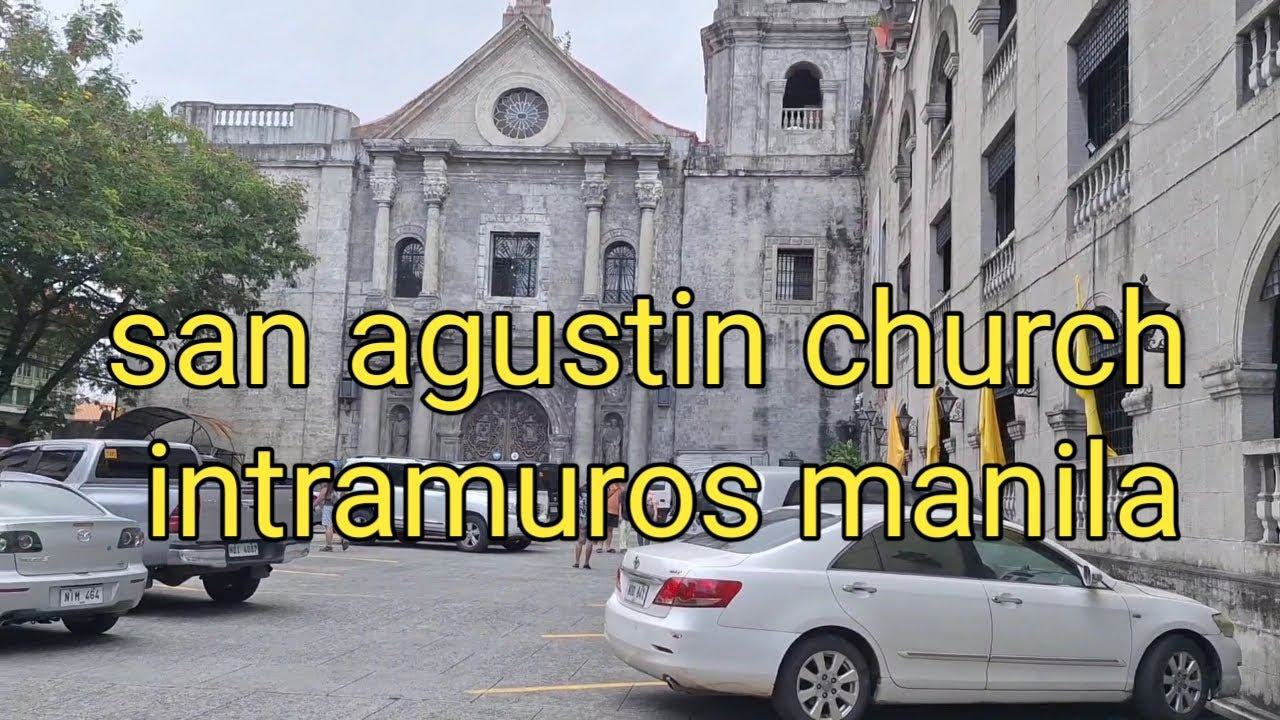san_agustin_church_intramuros_manila: (344, 1, 871, 524)
